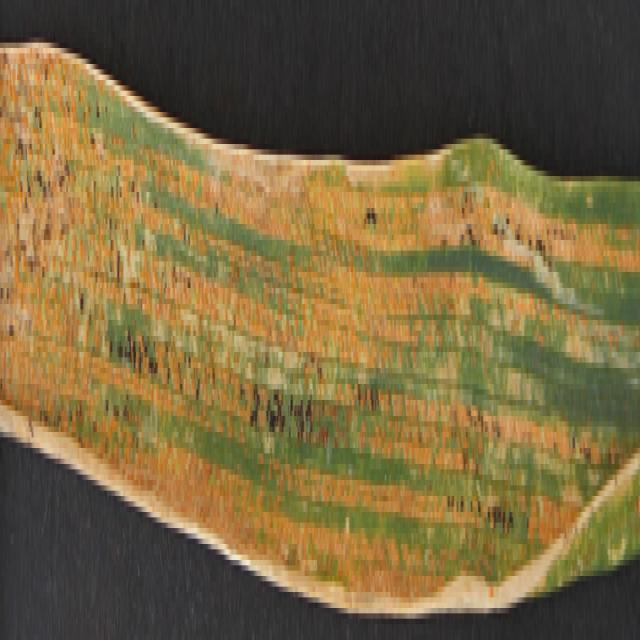leaf rust: (1, 42, 638, 538)
